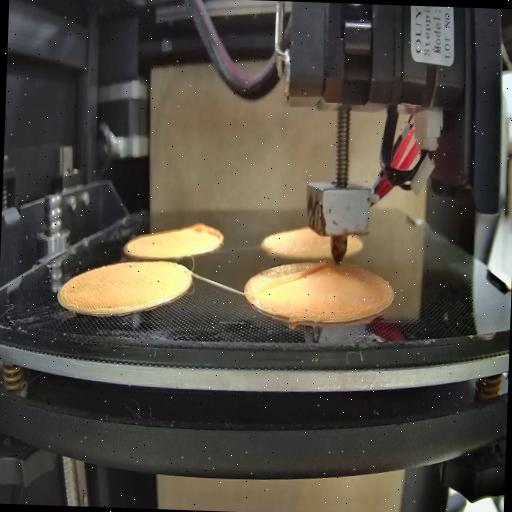over_extrusion: (258, 254, 331, 298), (190, 219, 224, 251)
